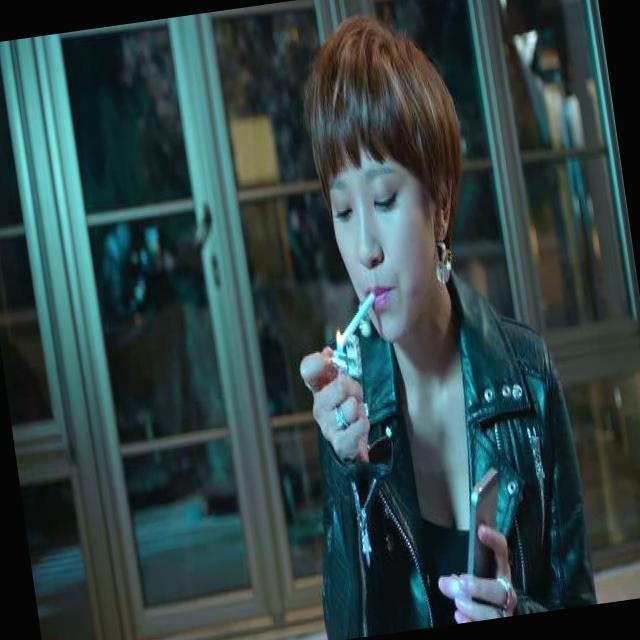smoke: (308, 274, 403, 360)
